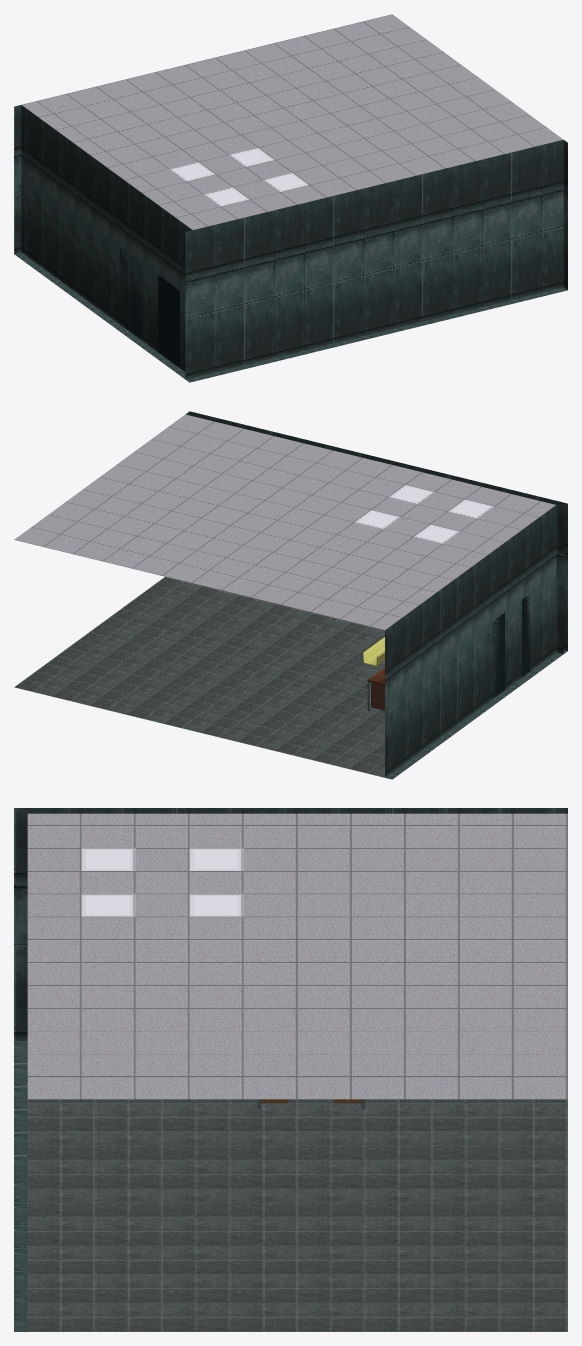
Rendered from misc.gltf.
The picture shows the model from 3 angles, top to bottom: view 1: azimuth 30°, elevation 25°; view 2: azimuth 150°, elevation 25°; view 3: azimuth 270°, elevation 25°; orthographic projection. The views are drawn at different scales.
Visible parts, largest first — view 1: Plane, Plane.001, Plane.002, Cube.009, Cube.010; view 2: Plane, Plane.012, Plane.002, Plane.001, Cube.010, Cube.009; view 3: Plane, Plane.012, Plane.001, Plane.002.
Part boxes in pixels (box(x1,y1,x2,y2)): Plane: box(21, 14, 563, 229); Plane.001: box(185, 139, 567, 382); Plane.002: box(14, 105, 192, 378); Cube.009: box(158, 275, 179, 367); Cube.010: box(120, 247, 141, 339); Plane: box(14, 414, 555, 630); Plane.012: box(14, 576, 384, 777); Plane.002: box(385, 505, 563, 779); Plane.001: box(185, 411, 567, 653); Cube.010: box(486, 612, 504, 701); Cube.009: box(522, 596, 532, 677); Plane: box(27, 813, 567, 1099); Plane.012: box(27, 1099, 567, 1331); Plane.001: box(14, 808, 27, 1331); Plane.002: box(27, 808, 567, 813).
Bounding box in the file's own units: 51 × 19 × 41.
